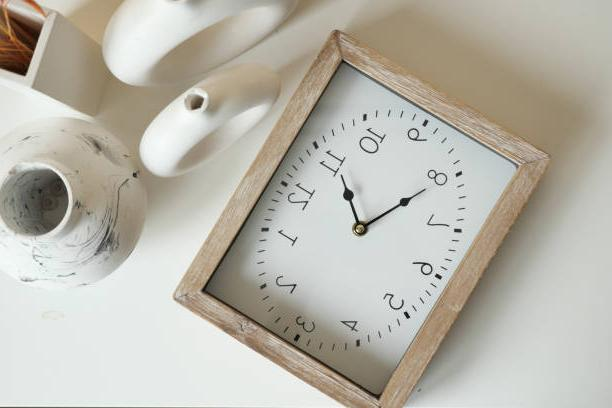clock: (202, 32, 539, 408)
